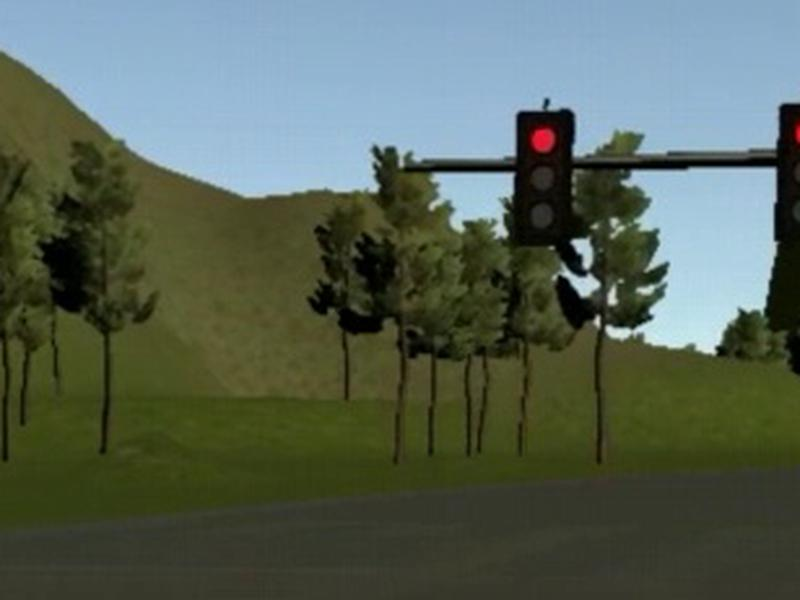Red: (514, 111, 573, 245), (775, 102, 799, 243)
